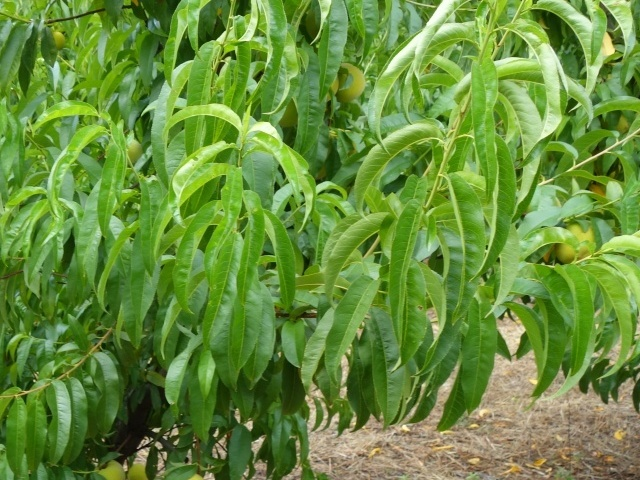peach: (555, 214, 606, 266), (333, 60, 370, 103), (46, 28, 72, 56)
